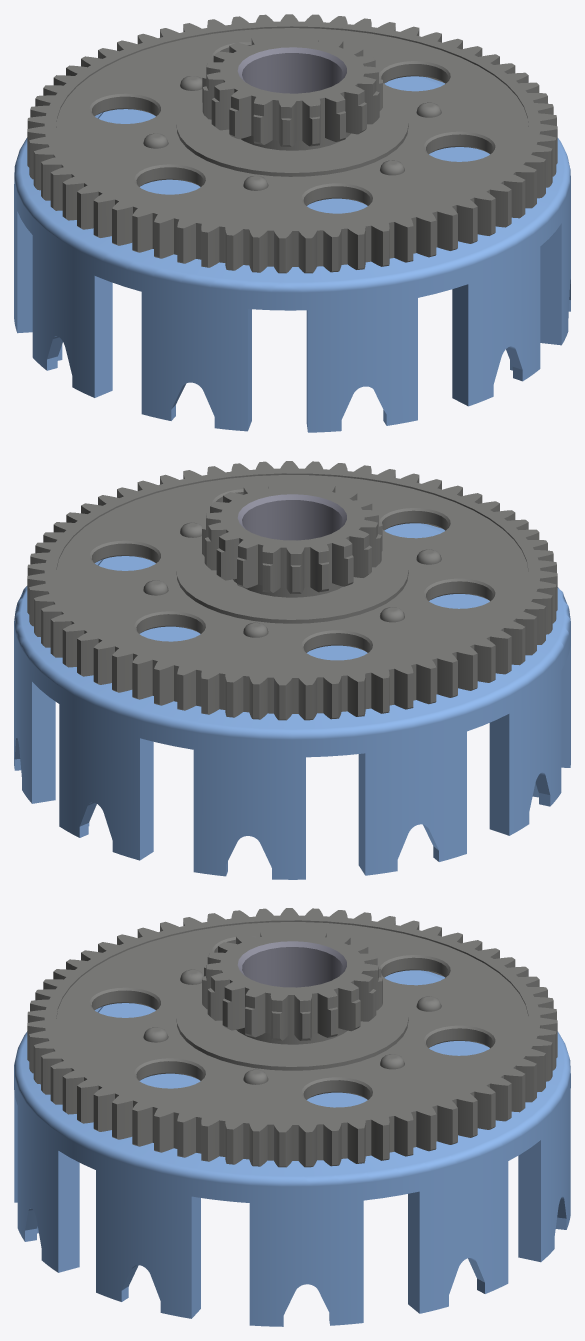
The model's file is Clutch_step2.fbx.
The picture shows the model from 3 angles, top to bottom: view 1: azimuth 30°, elevation 25°; view 2: azimuth 150°, elevation 25°; view 3: azimuth 270°, elevation 25°; orthographic projection.
Parts seen in each view (by area): view 1: Needle cage 20x24x055; view 2: Needle cage 20x24x055; view 3: Needle cage 20x24x055.
Boxes of the visible parts, box(x1,y1,x2,y2) form: Needle cage 20x24x055: box(14, 14, 570, 432); Needle cage 20x24x055: box(14, 461, 570, 879); Needle cage 20x24x055: box(14, 908, 570, 1326).
Bounding box in the file's own units: 13.2 × 6.4 × 13.2.
